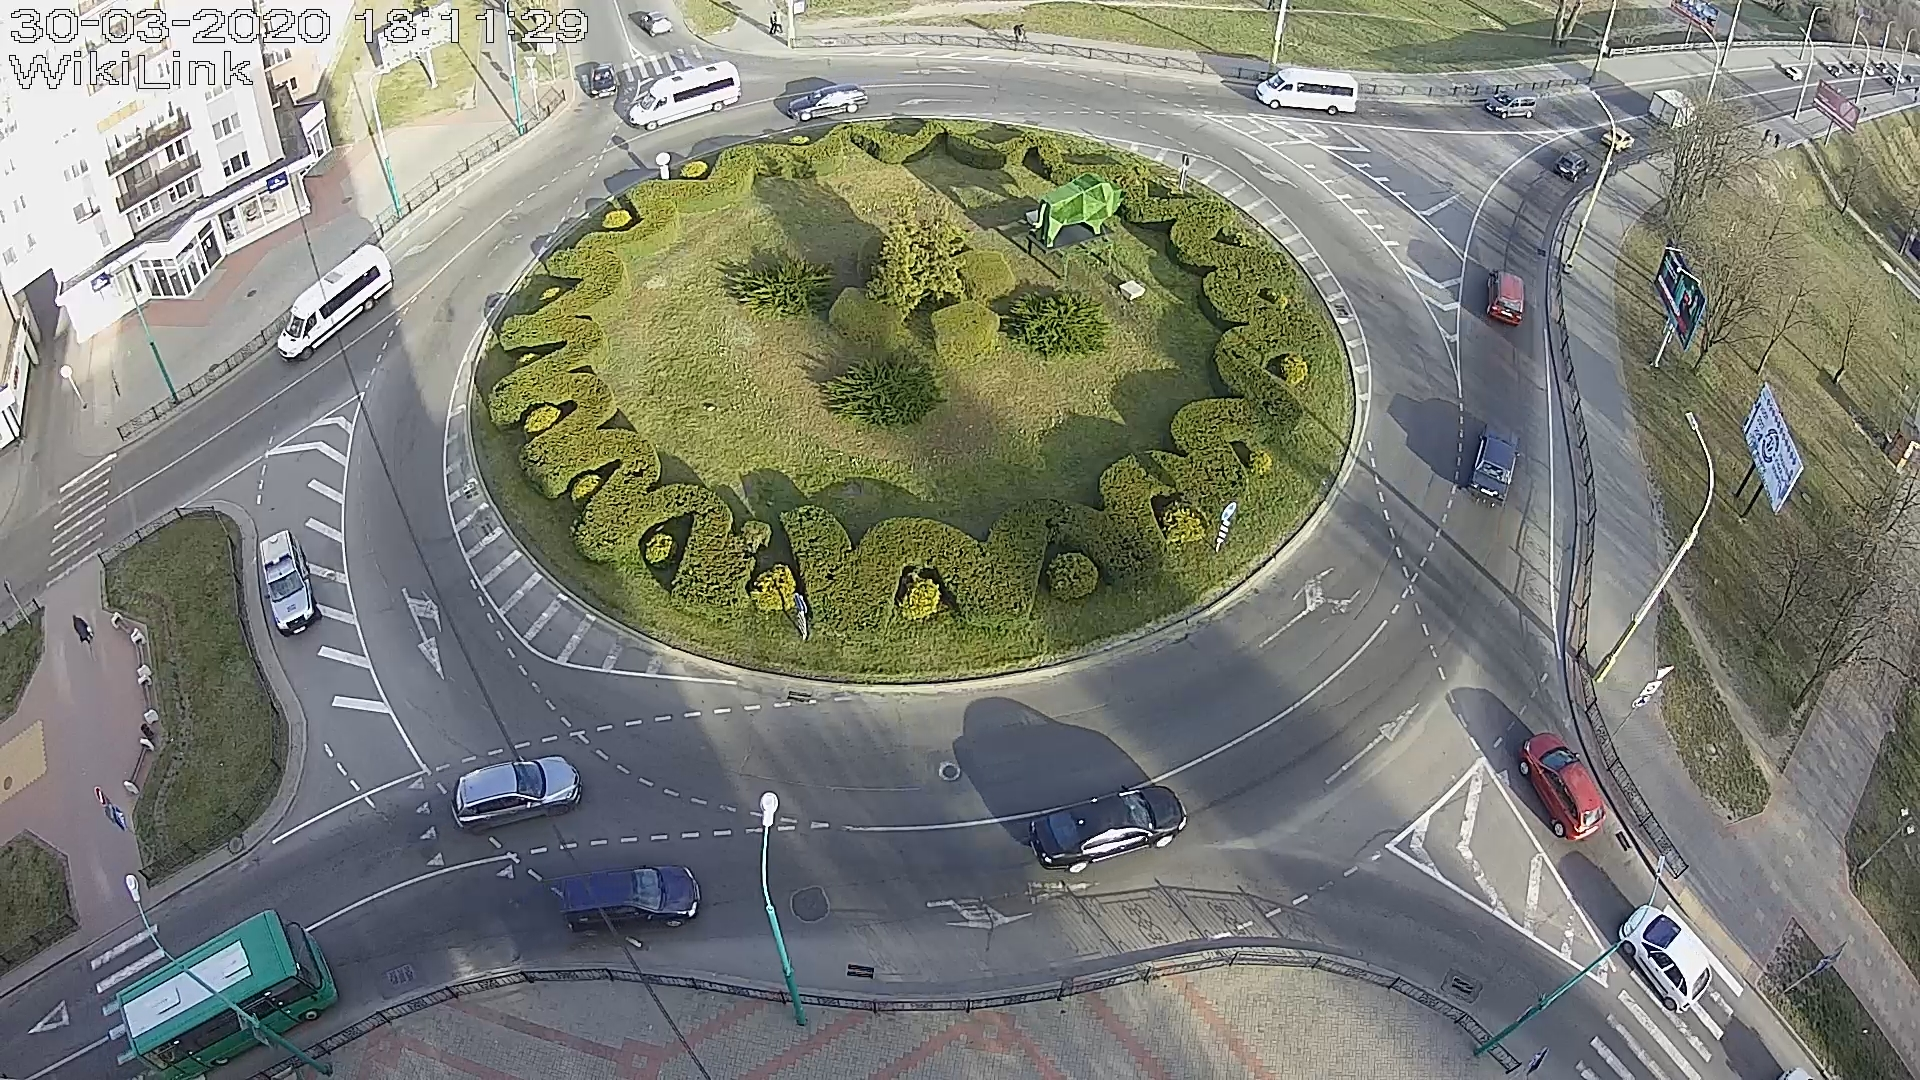bus: (113, 910, 339, 1080)
car: (1029, 785, 1188, 876), (277, 244, 394, 363), (451, 756, 583, 836), (1618, 905, 1712, 1014), (560, 864, 700, 934), (1518, 733, 1607, 841), (629, 61, 742, 131), (258, 529, 322, 638), (1255, 67, 1358, 116), (1466, 423, 1520, 506), (787, 83, 868, 123), (1486, 268, 1524, 327), (1485, 88, 1538, 119), (1553, 150, 1590, 183), (589, 62, 618, 99), (1601, 127, 1635, 153)
